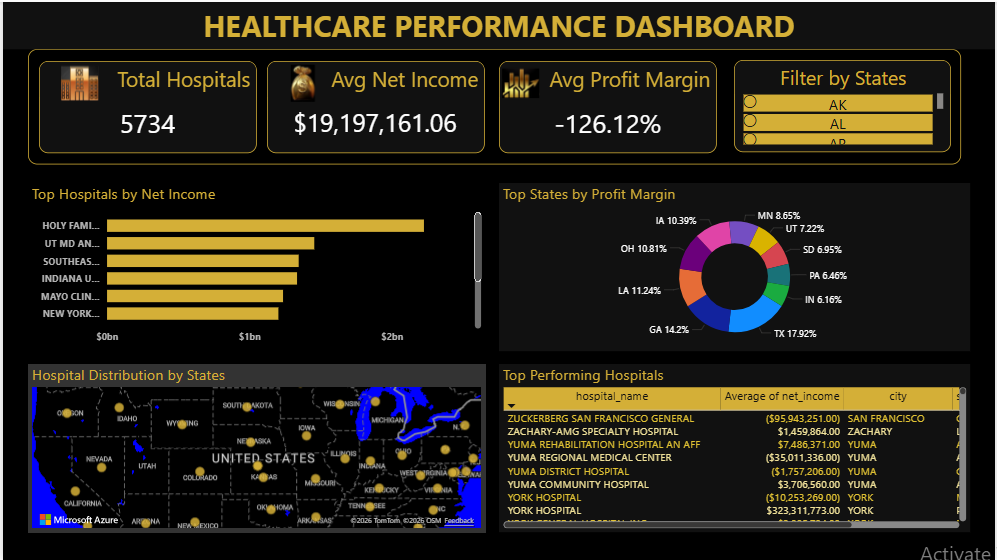

What the dashboard file says about the page in this screenshot:
{"tool":"powerbi","page":{"name":"Page 1","canvas":[1280,720],"ordinal":0},"visuals":[{"type":"shape","box":[32.9,60.3,1204.1,149.3],"z":0},{"type":"cardVisual","title":"Total Hospitals","fields":{"Data":["public hospital_data.Measure"]},"box":[47,75.6,280.5,119.3],"z":1000},{"type":"cardVisual","title":"Avg Net Income","fields":{"Data":["public hospital_data.Measure 2"]},"box":[341,75.6,280.5,119.3],"z":2000},{"type":"cardVisual","title":"Avg Profit Margin","fields":{"Data":["public hospital_data.Measure 3"]},"box":[640,75.6,280.5,119.3],"z":3000},{"type":"textbox","box":[0,0,1279.8,60.9],"z":4000},{"type":"clusteredBarChart","title":"Top Hospitals by Net Income","fields":{"Category":["public hospital_data.hospital_name"],"Y":["Avg(public hospital_data.net_income)"]},"box":[31.9,233.5,589.6,216.7],"z":5000},{"type":"donutChart","title":"Top States by Profit Margin","fields":{"Category":["public hospital_data.state"],"Y":["Sum(public hospital_data.profit_margin)"]},"box":[640,233.5,608.1,216.7],"z":6000},{"type":"azureMap","title":"Hospital Distribution by States","fields":{"Category":["public hospital_data.Location"],"Size":["CountNonNull(public hospital_data.hospital_name)"]},"box":[32,466.5,590,217],"z":7000},{"type":"tableEx","title":"Top Performing Hospitals","fields":{"Values":["public hospital_data.hospital_name","Avg(public hospital_data.net_income)","public hospital_data.city","public hospital_data.state","Sum(public hospital_data.profit_margin)"]},"box":[640,467,608,217],"z":8000},{"type":"actionButton","box":[0,0,100,40],"z":9000},{"type":"actionButton","box":[71.2,75.3,56.2,60.3],"z":10000},{"type":"actionButton","box":[358.9,75.3,56.2,60.3],"z":11000},{"type":"actionButton","box":[639.7,75.3,56.2,60.3],"z":12000},{"type":"listSlicer","title":"Filter by States","fields":{"Values":["public hospital_data.state"]},"box":[943.8,75.3,280,119.2],"z":13000}]}

Visuals, with their boxes in screenshot pixels (x1, y1, x2, y2), scaled from the page's 1280x720 canvas onto the 997x560 screenshot:
shape: 26, 47, 964, 163
"Total Hospitals" cardVisual: 37, 59, 255, 152
"Avg Net Income" cardVisual: 266, 59, 484, 152
"Avg Profit Margin" cardVisual: 498, 59, 717, 152
textbox: 0, 0, 996, 47
"Top Hospitals by Net Income" clusteredBarChart: 25, 182, 484, 350
"Top States by Profit Margin" donutChart: 498, 182, 972, 350
"Hospital Distribution by States" azureMap: 25, 363, 484, 532
"Top Performing Hospitals" tableEx: 498, 363, 972, 532
actionButton: 0, 0, 78, 31
actionButton: 55, 59, 99, 105
actionButton: 280, 59, 323, 105
actionButton: 498, 59, 542, 105
"Filter by States" listSlicer: 735, 59, 953, 151
